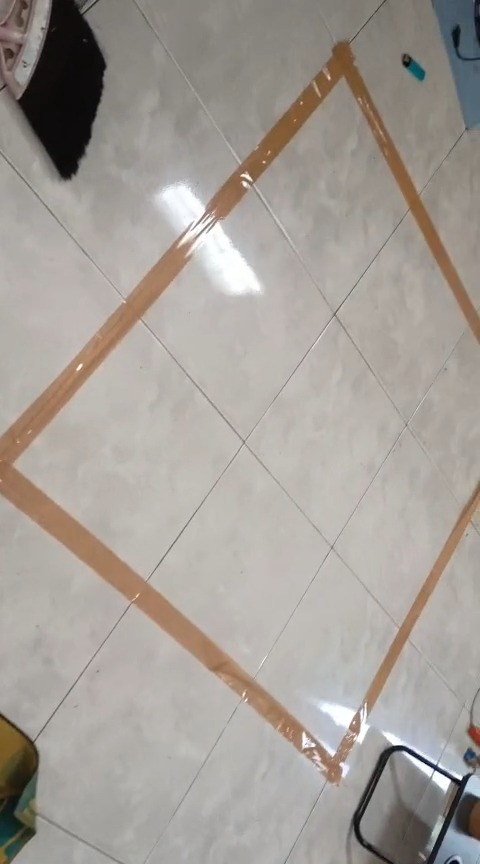floor marking: (1, 42, 479, 781)
